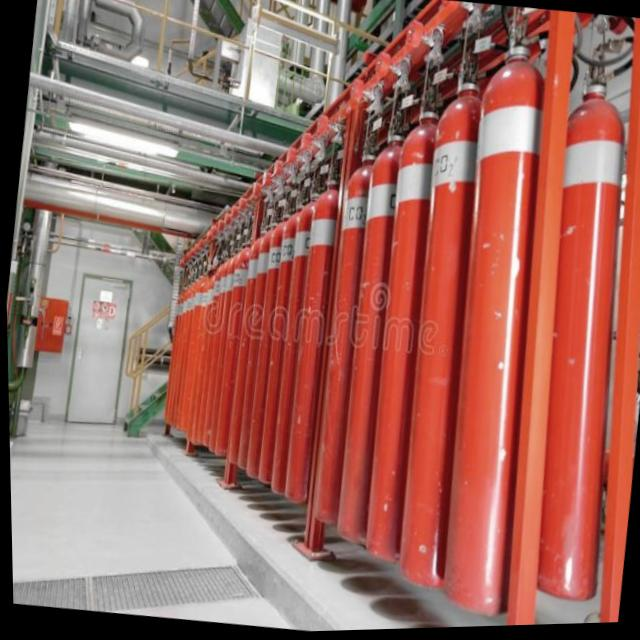FireExtinguisher: (417, 5, 593, 630), (376, 19, 532, 601), (497, 18, 640, 616), (342, 62, 479, 573), (318, 85, 436, 561), (297, 128, 408, 537), (268, 142, 370, 518)
